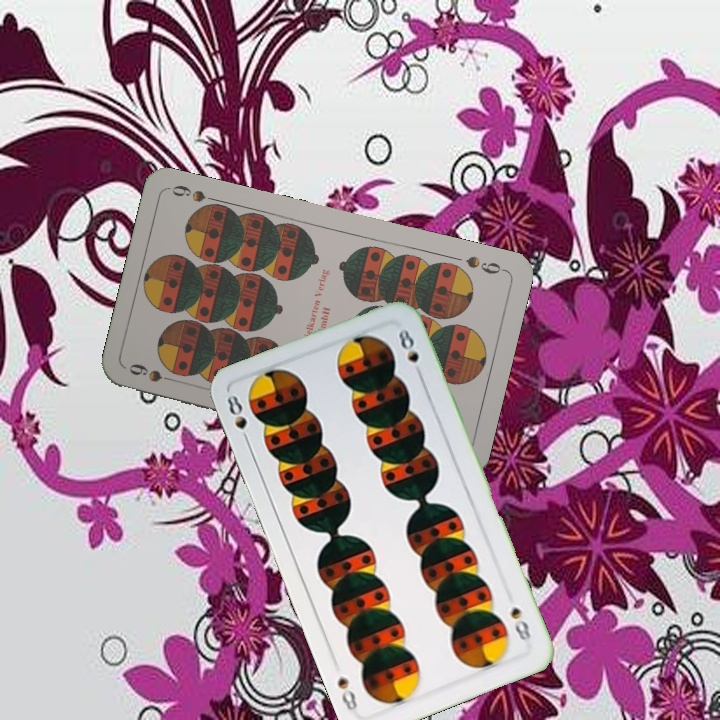S8: (223, 390, 253, 448), (506, 602, 534, 643)
S9: (125, 359, 183, 386), (461, 251, 508, 277)
